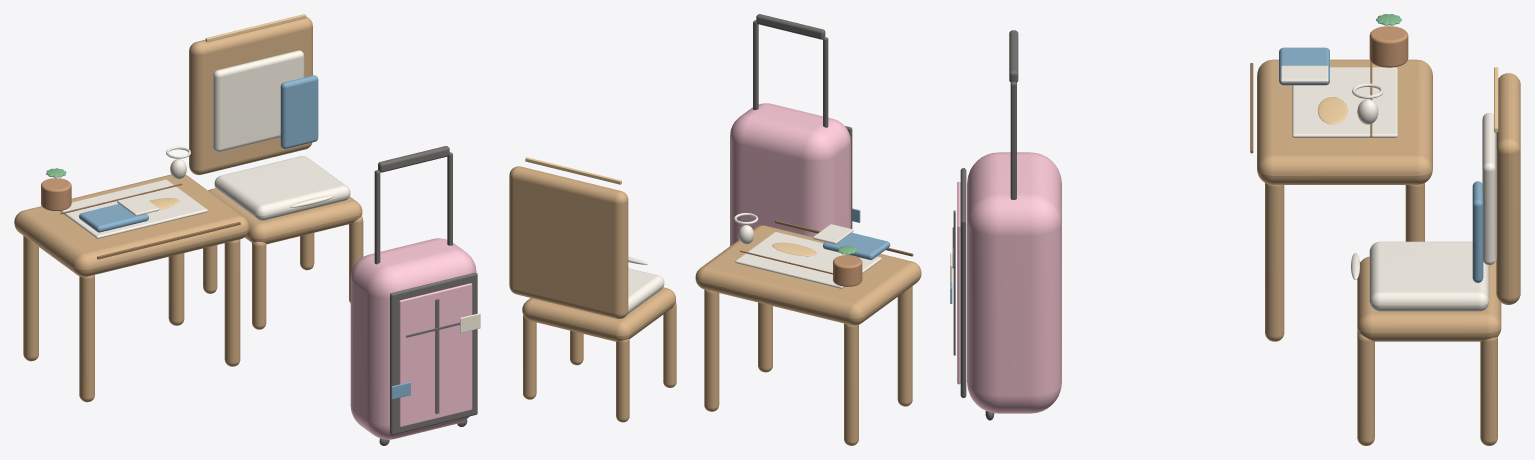
File: 星湾旅店窗边桌椅行李组合_v371.fbx
3 views of the same model, side by side, from view 1: azimuth 30°, elevation 25°; view 2: azimuth 150°, elevation 25°; view 3: azimuth 270°, elevation 25° (orthographic). The views are drawn at different scales.
Parts seen in each view (by area): view 1: 旅店窗边小家具_v371_粉色行李箱圆角主体, 旅店窗边小家具_v371_圆角木桌面, 旅店窗边小家具_v371_行李箱粉色内面, 旅店窗边小家具_v371_靠窗椅木背框, 旅店窗边小家具_v371_靠窗椅奶油软靠垫, 旅店窗边小家具_v371_靠窗椅奶油厚坐垫, 旅店窗边小家具_v371_行李箱深色前框, 旅店窗边小家具_v371_靠窗椅木质坐板, 旅店窗边小家具_v371_桌面奶油布垫, 旅店窗边小家具_v371_靠窗椅海蓝搭布, 旅店窗边小家具_v371_小桌细圆木腿.002, 旅店窗边小家具_v371_小桌细圆木腿 (+15 smaller); view 2: 旅店窗边小家具_v371_靠窗椅木背框, 旅店窗边小家具_v371_粉色行李箱圆角主体, 旅店窗边小家具_v371_圆角木桌面, 旅店窗边小家具_v371_靠窗椅木质坐板, 旅店窗边小家具_v371_桌面奶油布垫, 旅店窗边小家具_v371_小桌细圆木腿.003, 旅店窗边小家具_v371_小桌细圆木腿, 旅店窗边小家具_v371_小桌细圆木腿.001, 旅店窗边小家具_v371_椅子细圆木腿.001, 旅店窗边小家具_v371_椅子细圆木腿.003, 旅店窗边小家具_v371_椅子细圆木腿, 旅店窗边小家具_v371_靠窗椅奶油厚坐垫 (+10 smaller); view 3: 旅店窗边小家具_v371_粉色行李箱圆角主体, 旅店窗边小家具_v371_圆角木桌面, 旅店窗边小家具_v371_靠窗椅奶油厚坐垫, 旅店窗边小家具_v371_桌面奶油布垫, 旅店窗边小家具_v371_靠窗椅木背框, 旅店窗边小家具_v371_靠窗椅木质坐板, 旅店窗边小家具_v371_小桌细圆木腿.002, 旅店窗边小家具_v371_靠窗椅奶油软靠垫, 旅店窗边小家具_v371_椅子细圆木腿.002, 旅店窗边小家具_v371_椅子细圆木腿.003, 旅店窗边小家具_v371_行李箱深色前框, 旅店窗边小家具_v371_桌面陶土小花盆 (+7 smaller).
Part boxes in pixels (x1,y1,x2,y2): 旅店窗边小家具_v371_粉色行李箱圆角主体: (350, 238, 476, 439); 旅店窗边小家具_v371_圆角木桌面: (14, 174, 249, 276); 旅店窗边小家具_v371_行李箱粉色内面: (399, 283, 472, 427); 旅店窗边小家具_v371_靠窗椅木背框: (189, 17, 312, 174); 旅店窗边小家具_v371_靠窗椅奶油软靠垫: (213, 50, 304, 151); 旅店窗边小家具_v371_靠窗椅奶油厚坐垫: (214, 156, 350, 220); 旅店窗边小家具_v371_行李箱深色前框: (390, 272, 477, 435); 旅店窗边小家具_v371_靠窗椅木质坐板: (208, 188, 362, 244); 旅店窗边小家具_v371_桌面奶油布垫: (59, 179, 207, 238); 旅店窗边小家具_v371_靠窗椅海蓝搭布: (280, 75, 318, 148); 旅店窗边小家具_v371_小桌细圆木腿.002: (224, 239, 240, 366); 旅店窗边小家具_v371_小桌细圆木腿: (79, 275, 94, 402); 旅店窗边小家具_v371_靠窗椅木背框: (509, 166, 628, 319); 旅店窗边小家具_v371_粉色行李箱圆角主体: (730, 103, 850, 245); 旅店窗边小家具_v371_圆角木桌面: (695, 225, 921, 325); 旅店窗边小家具_v371_靠窗椅木质坐板: (522, 287, 675, 341); 旅店窗边小家具_v371_桌面奶油布垫: (735, 232, 881, 288); 旅店窗边小家具_v371_小桌细圆木腿.003: (704, 289, 719, 411); 旅店窗边小家具_v371_小桌细圆木腿: (897, 286, 912, 406); 旅店窗边小家具_v371_小桌细圆木腿.001: (844, 323, 858, 445); 旅店窗边小家具_v371_椅子细圆木腿.001: (616, 339, 629, 422); 旅店窗边小家具_v371_椅子细圆木腿.003: (523, 315, 536, 399); 旅店窗边小家具_v371_椅子细圆木腿: (663, 302, 676, 387); 旅店窗边小家具_v371_靠窗椅奶油厚坐垫: (627, 268, 664, 314); 旅店窗边小家具_v371_粉色行李箱圆角主体: (967, 152, 1061, 413); 旅店窗边小家具_v371_圆角木桌面: (1257, 59, 1432, 184); 旅店窗边小家具_v371_靠窗椅奶油厚坐垫: (1369, 241, 1489, 311); 旅店窗边小家具_v371_桌面奶油布垫: (1292, 67, 1397, 137); 旅店窗边小家具_v371_靠窗椅木背框: (1496, 73, 1520, 304); 旅店窗边小家具_v371_靠窗椅木质坐板: (1357, 256, 1501, 341); 旅店窗边小家具_v371_小桌细圆木腿.002: (1265, 183, 1284, 341); 旅店窗边小家具_v371_靠窗椅奶油软靠垫: (1482, 113, 1495, 265); 旅店窗边小家具_v371_椅子细圆木腿.002: (1357, 333, 1374, 445); 旅店窗边小家具_v371_椅子细圆木腿.003: (1480, 336, 1497, 445); 旅店窗边小家具_v371_行李箱深色前框: (960, 168, 966, 397); 旅店窗边小家具_v371_桌面陶土小花盆: (1369, 26, 1408, 67).
Size of the model in its own units: 137 by 108 by 162.
